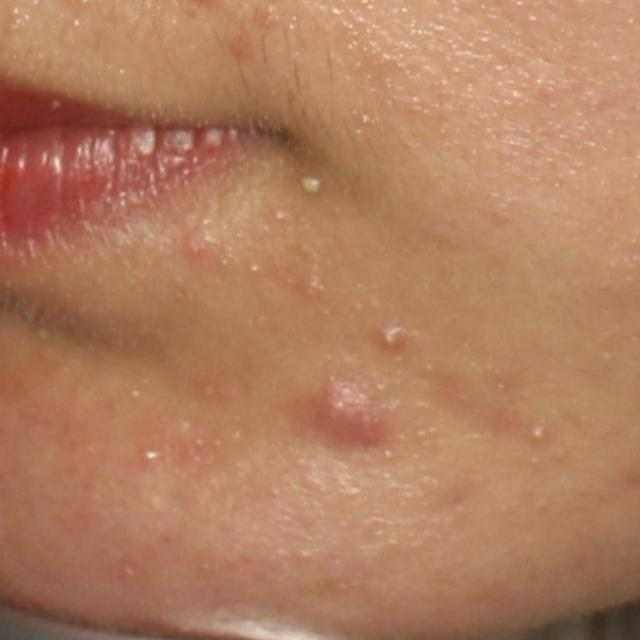nodule: (315, 384, 383, 446)
